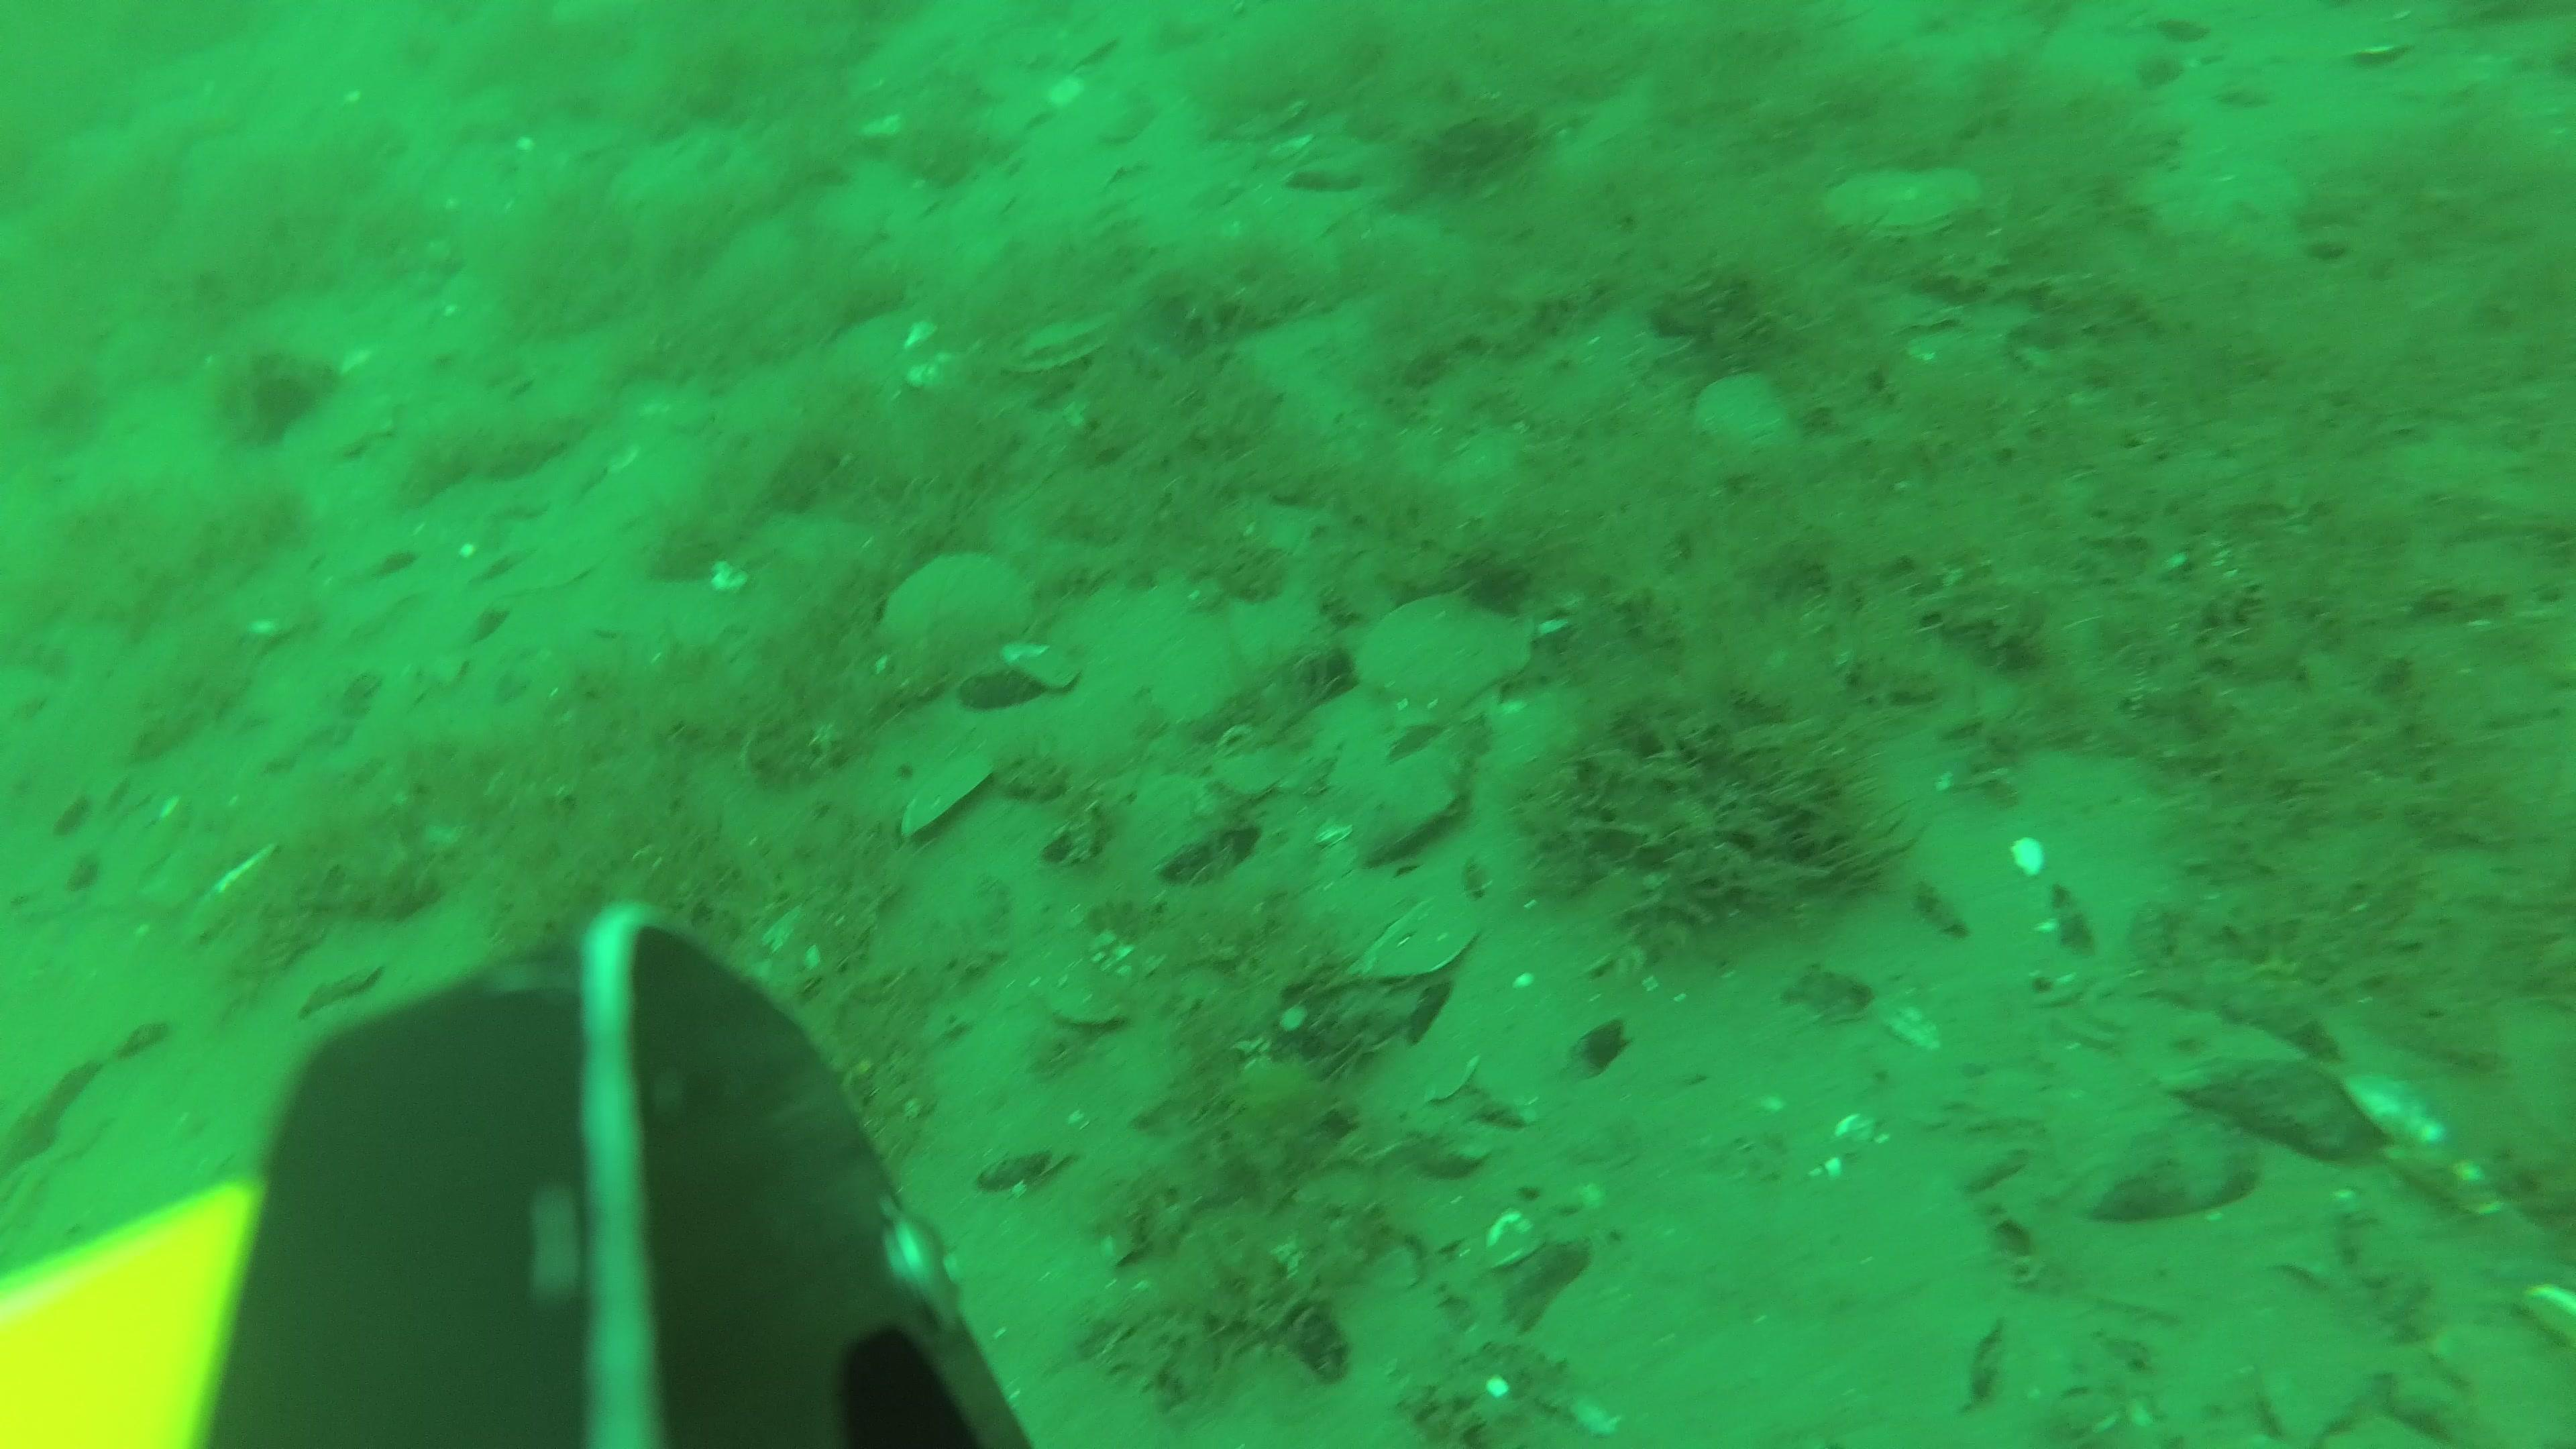scallop: (1281, 692, 1472, 851), (1355, 582, 1536, 736), (872, 543, 1039, 702), (1813, 161, 1994, 244), (1010, 685, 1152, 786), (1185, 14, 1323, 117), (1691, 364, 1810, 464), (996, 304, 1132, 379), (902, 757, 996, 840), (1207, 725, 1299, 796)
